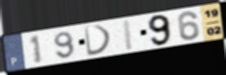1: (29, 33, 43, 65)
6: (176, 10, 200, 42)
9: (146, 14, 174, 47), (52, 30, 77, 60)
D: (82, 24, 114, 58)
I: (122, 18, 135, 52)
